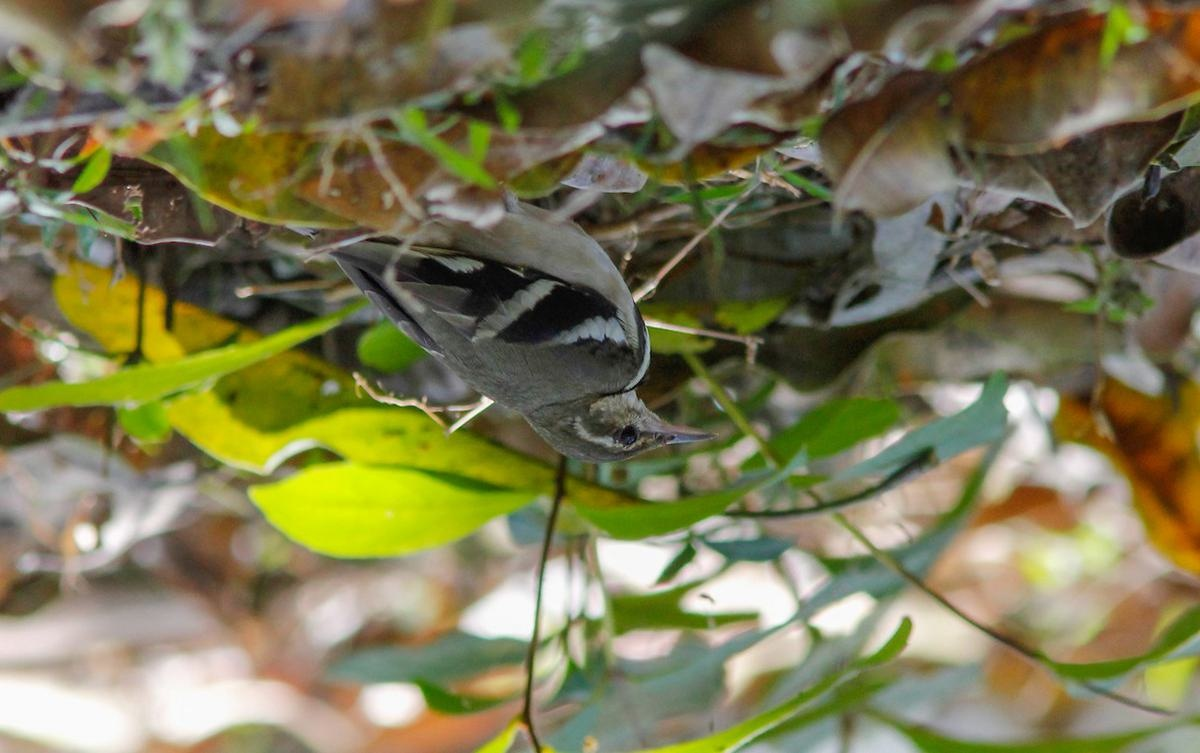wagtail: (375, 181, 735, 473)
